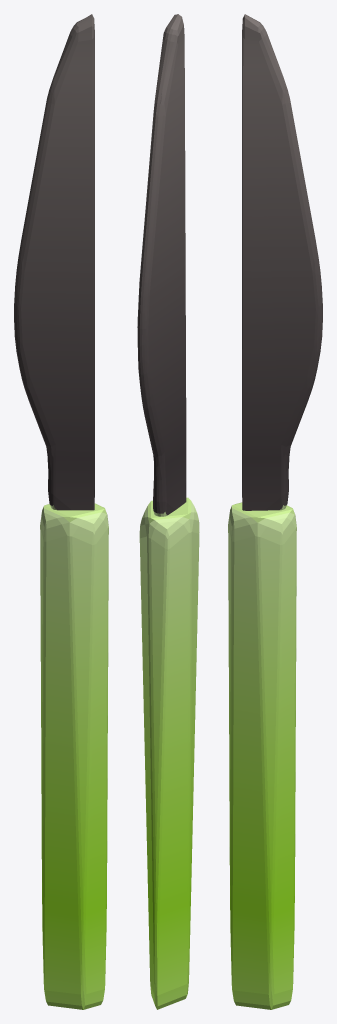
Rendered from Knife.fbx.
3 renders of one model, left to right at view 1: azimuth 90°, elevation 25°; view 2: azimuth 150°, elevation 25°; view 3: azimuth 270°, elevation 25°, orthographic.
Visible parts, largest first — view 1: Knife; view 2: Knife; view 3: Knife.
Part boxes in pixels (x1,y1,x2,y2): Knife: [14, 14, 108, 1009]; Knife: [137, 14, 199, 1009]; Knife: [228, 14, 322, 1009].
Bounding box in the file's own units: 34.13 × 678 × 58.76.
